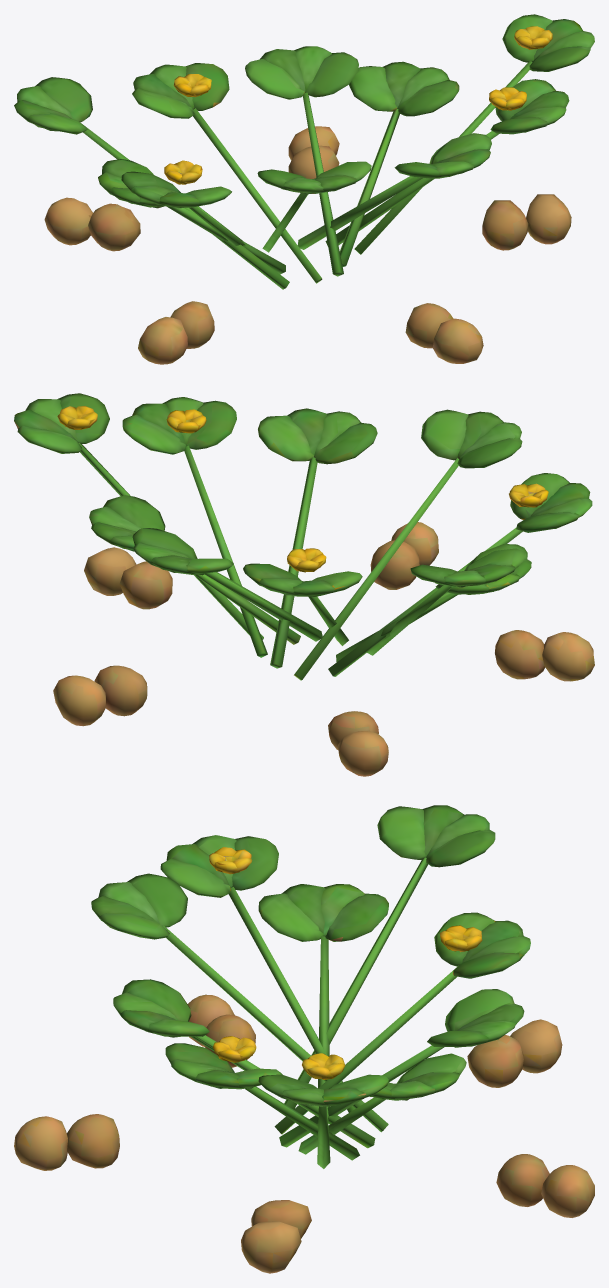
File: crop_peanut.glb
3 views of the same model, one above another, from view 1: azimuth 30°, elevation 25°; view 2: azimuth 150°, elevation 25°; view 3: azimuth 270°, elevation 25° (orthographic). The views are drawn at different scales.
Parts seen in each view (by area): view 1: crop_peanut, fruit; view 2: crop_peanut, fruit; view 3: crop_peanut, fruit.
Boxes of the visible parts, x1,y1,x2,y2 form: crop_peanut: [14, 14, 594, 289]; fruit: [44, 126, 571, 364]; crop_peanut: [14, 393, 592, 680]; fruit: [53, 522, 594, 776]; crop_peanut: [91, 805, 530, 1168]; fruit: [14, 994, 594, 1273].
Bounding box in the file's own units: 0.3144 × 0.1115 × 0.2698.
Materials: 1 (1 with a texture image).
